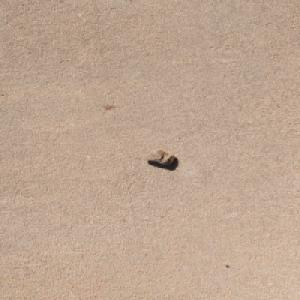Rock: (142, 149, 174, 165)
